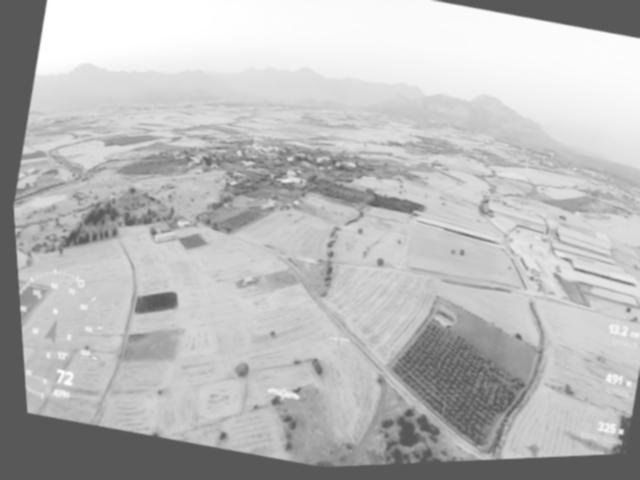hedef: (246, 377, 307, 414), (315, 327, 351, 359)
